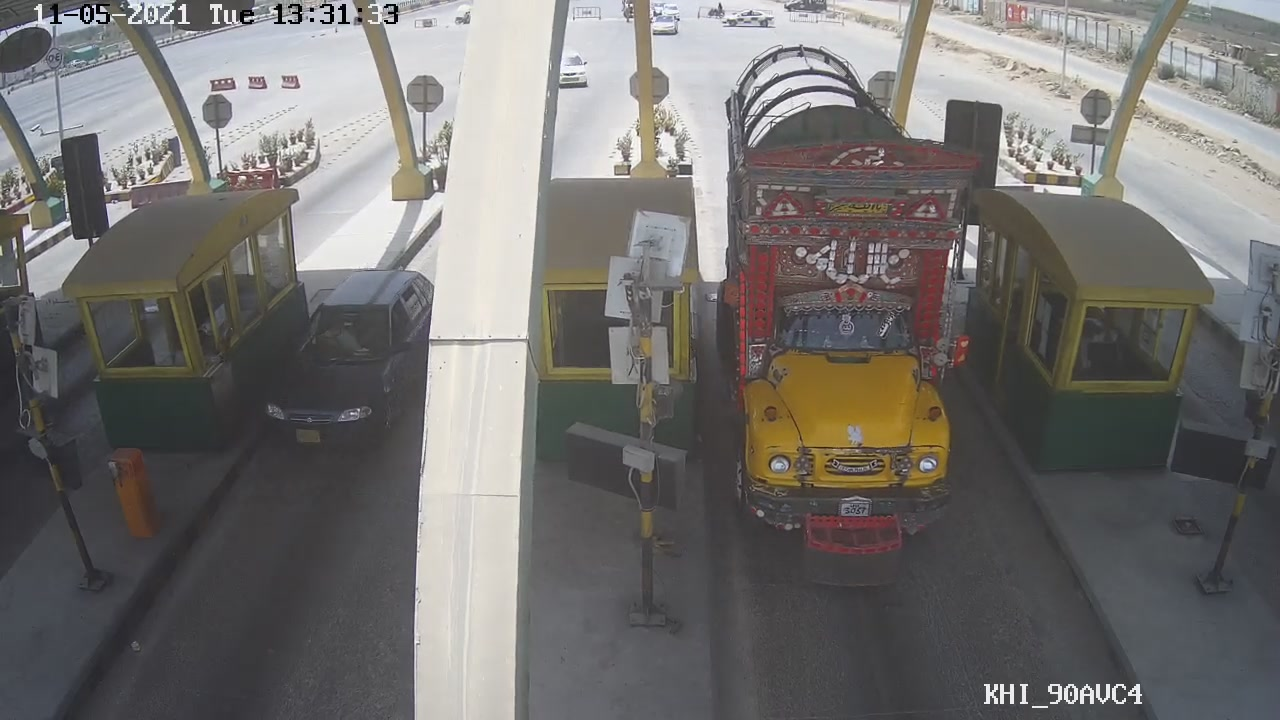F5: (714, 41, 986, 592)
